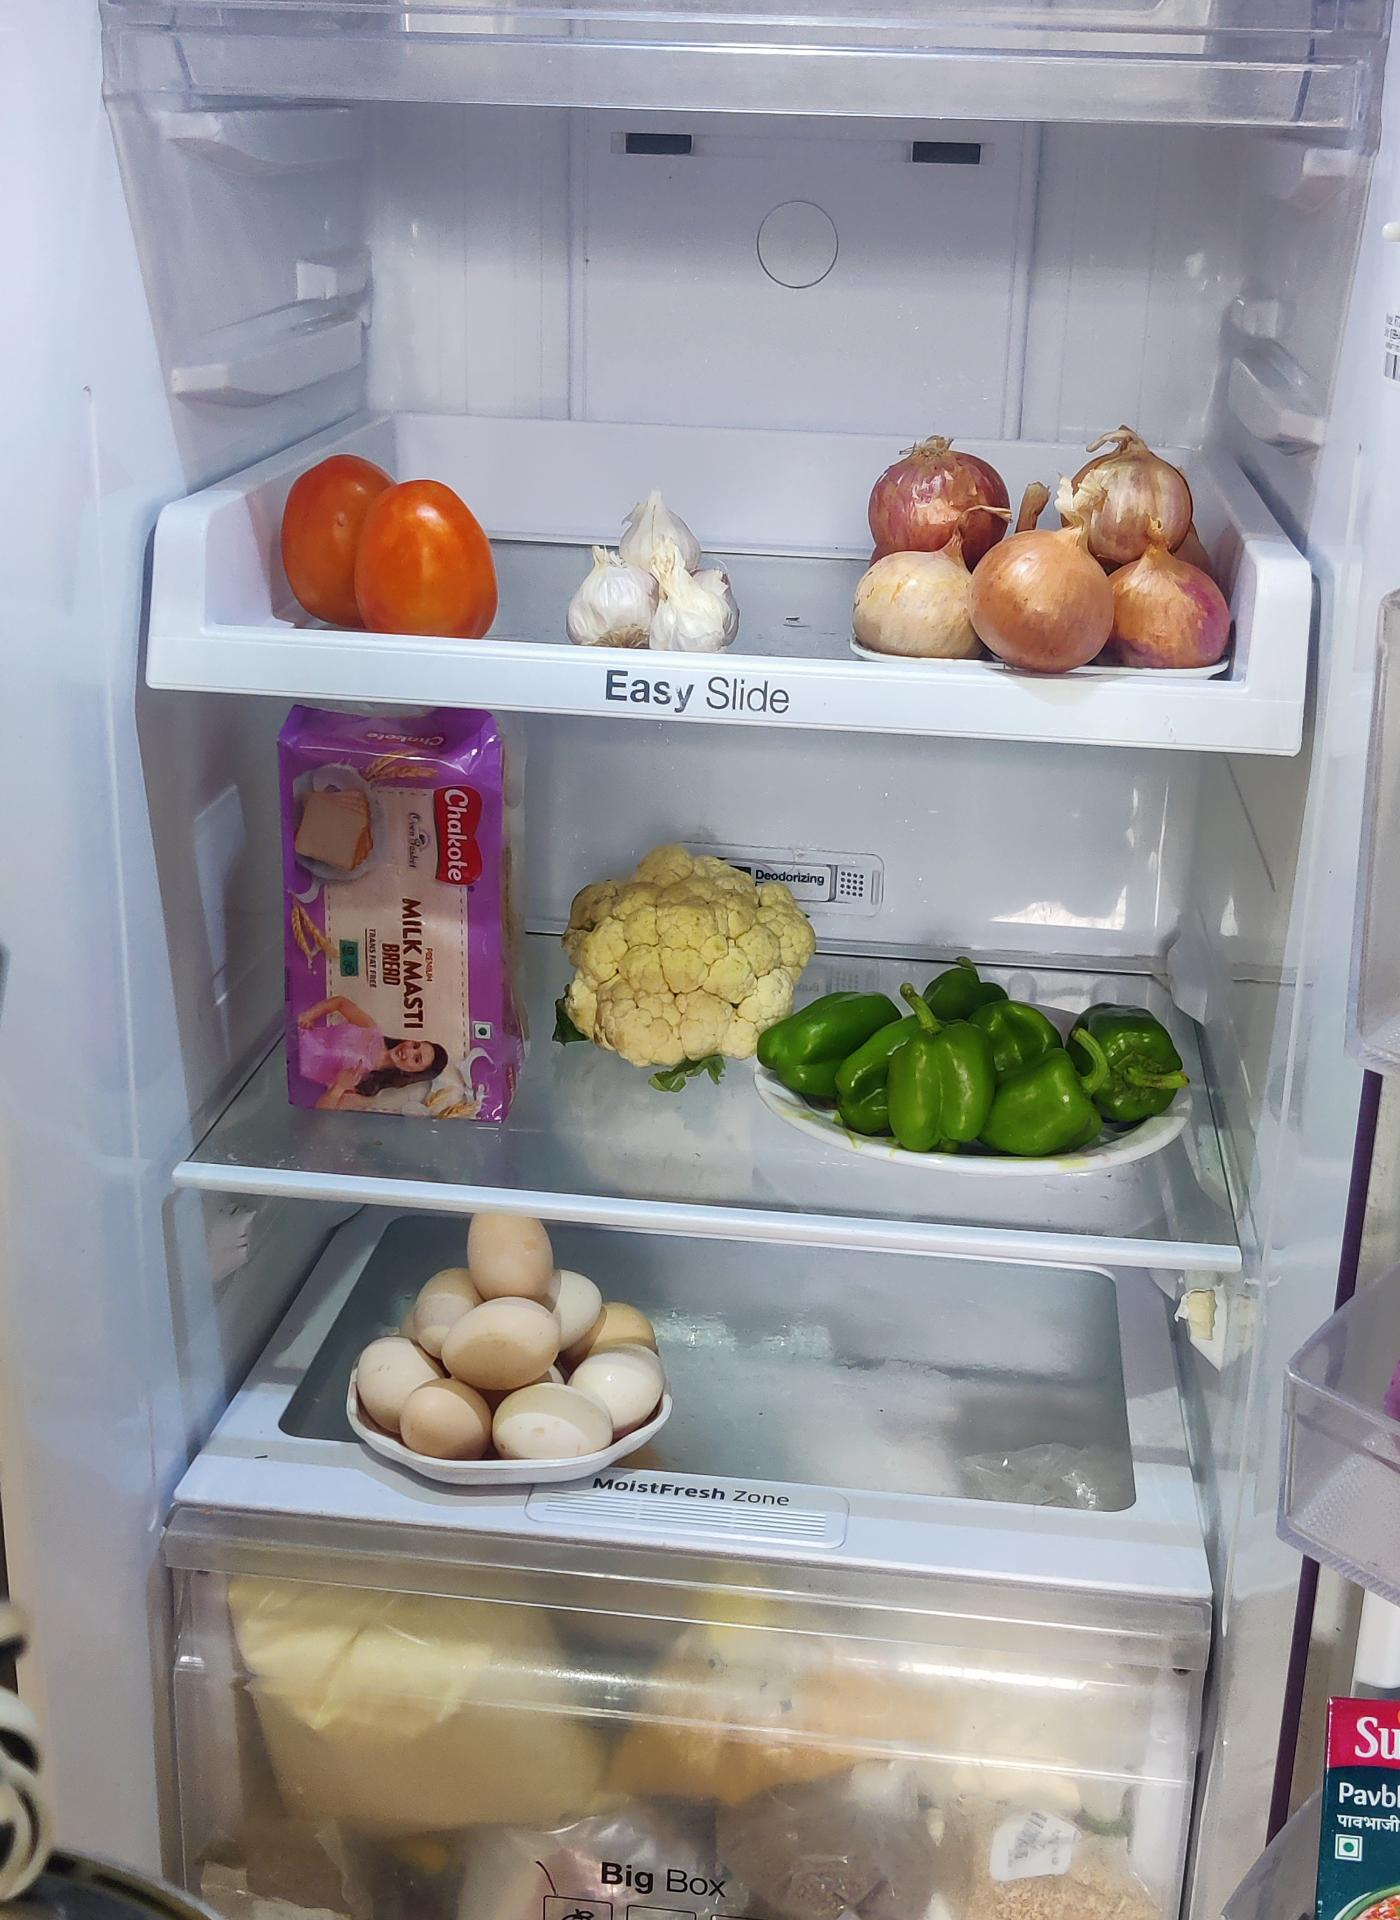bread: (280, 705, 536, 1122)
capsicum: (759, 964, 1191, 1156)
cauliflower: (556, 853, 814, 1074)
egg: (340, 1207, 658, 1467)
garlic: (563, 494, 739, 662)
onion: (852, 430, 1244, 677)
tomato: (286, 460, 507, 646)
